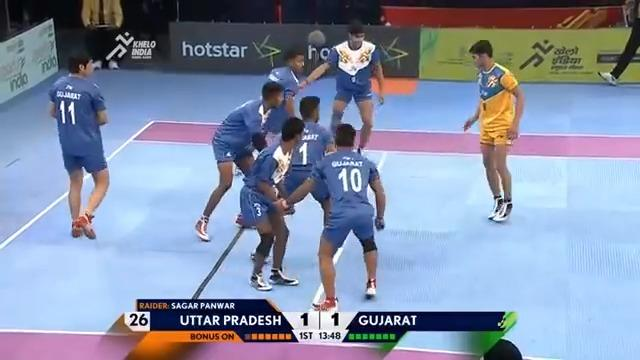Player: (194, 80, 287, 241), (311, 126, 399, 285), (46, 52, 110, 239), (296, 21, 386, 152), (267, 47, 298, 96)
Raider: (462, 39, 525, 222)
referee: (597, 0, 639, 86), (79, 0, 124, 69)
